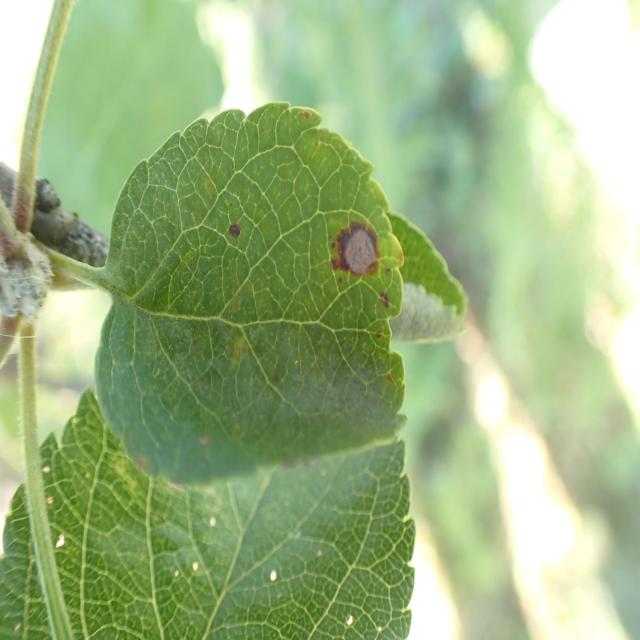frog-eye-leaf-spot: (94, 100, 407, 488)
